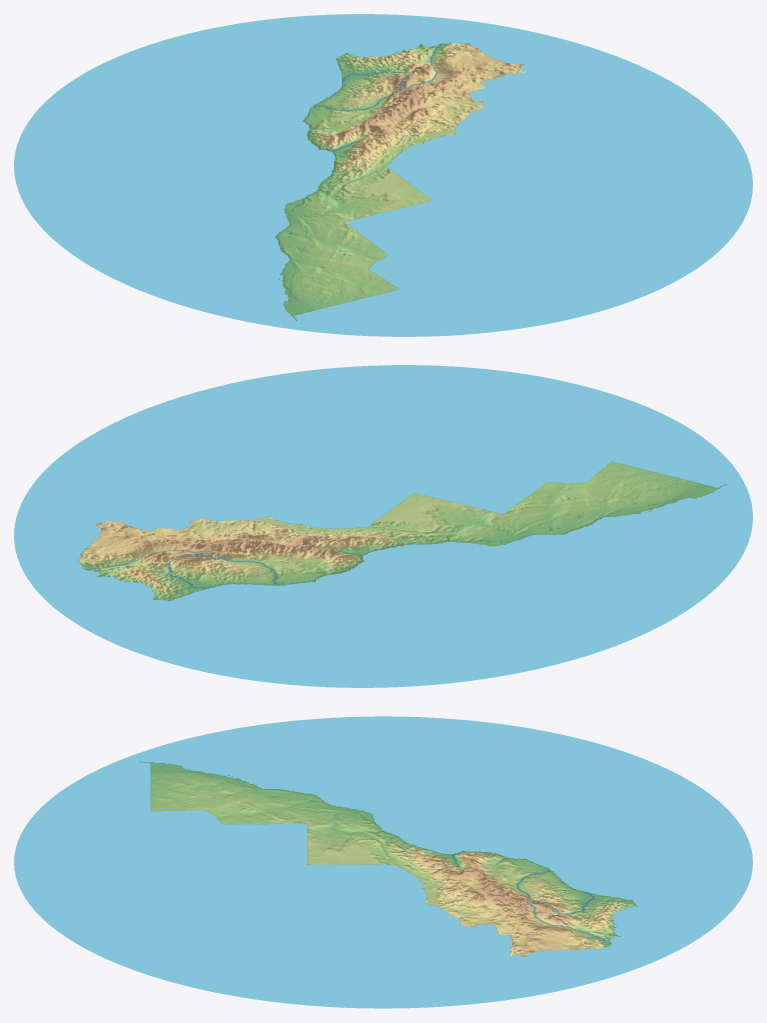
The model's file is MAR-terrain.glb.
3 views of the same model, one above another, from view 1: azimuth 30°, elevation 25°; view 2: azimuth 150°, elevation 25°; view 3: azimuth 270°, elevation 25° (orthographic). The views are drawn at different scales.
Visible parts, largest first — view 1: Relevo com hidrografia; view 2: Relevo com hidrografia; view 3: Relevo com hidrografia.
Part boxes in pixels (x1,y1,x2,y2): Relevo com hidrografia: [14, 14, 752, 336]; Relevo com hidrografia: [14, 365, 752, 687]; Relevo com hidrografia: [14, 716, 752, 1008].
Size of the model in its own units: 2.2 by 0.0368 by 2.35.
Materials: 2 (1 with a texture image).
